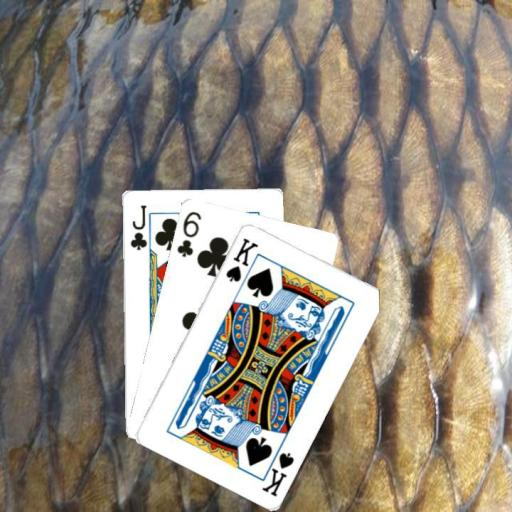6C: (174, 208, 203, 258)
JC: (126, 201, 148, 251)
KS: (257, 440, 296, 498), (222, 234, 259, 283)
